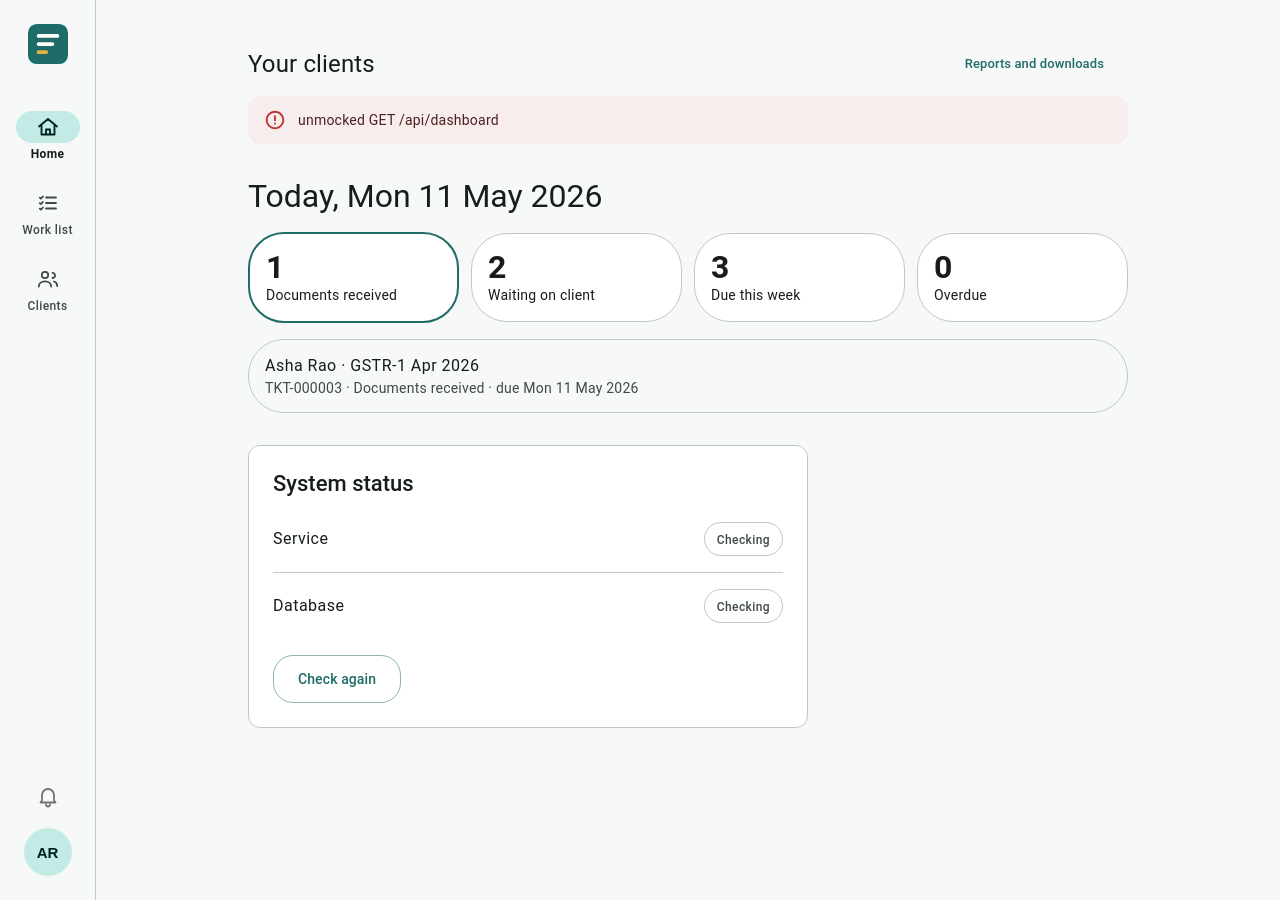
Daily work list › shows the four counts and each list, with what is missing
Check: the heading "Today, Mon 11 May 2026" is shown, box [248,176,602,216]
Check: the text with test id "count-missing" reads "2", box [488,248,507,286]
Click the tab "2 Waiting on client" at (576, 278), box [471,232,682,323]
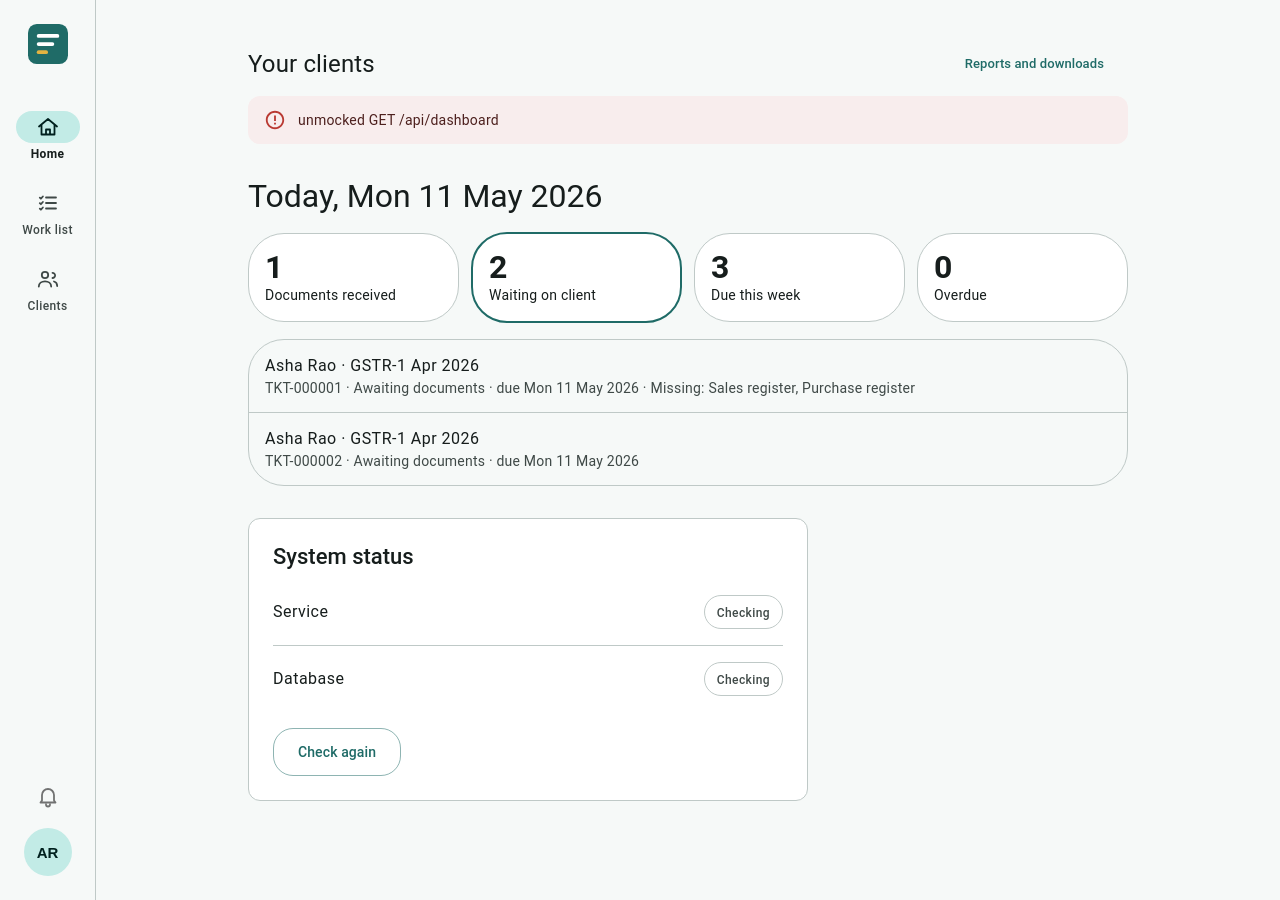
Check: the list named "Waiting on client" shows "Missing: Sales register, Purchase register", box [249,340,1127,413]
Click the tab "0 Overdue" at (1022, 278), box [917,232,1128,323]
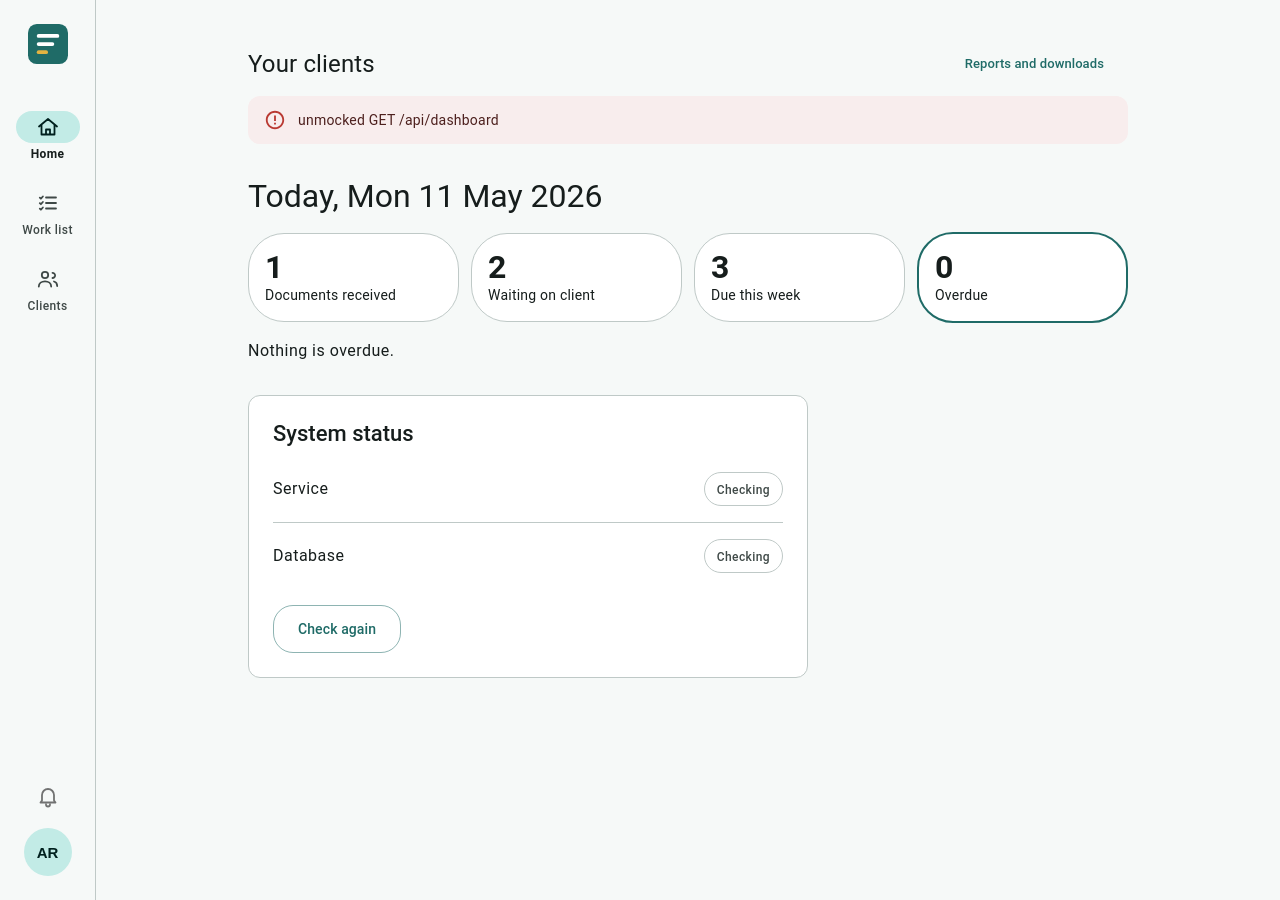
Check: the text "Nothing is overdue." is shown, box [248,341,394,360]
